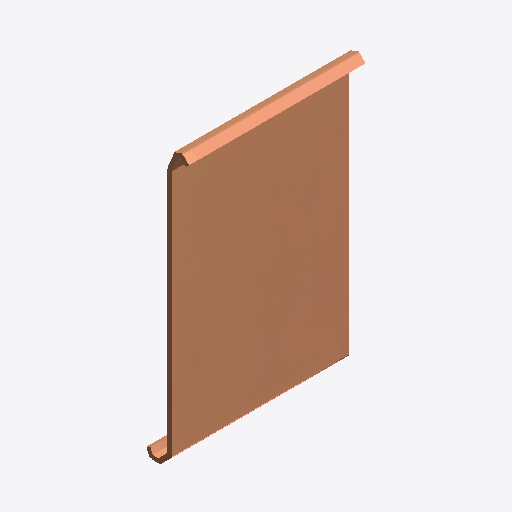
A Minecraft block model of 7 cuboids, rendered isometrically (azimuth 45°, elevation 35.3°) with the resource pack's own textures.
Parts seen in each view (by area): base, element 7, element 5.
Boxes of the visible parts, x1=… form: base: x1=167, y1=73, x2=348, y2=455; element 7: x1=180, y1=53, x2=364, y2=166; element 5: x1=174, y1=50, x2=358, y2=157.
Size of the model in its own units: 10 by 15.9 by 2.42.